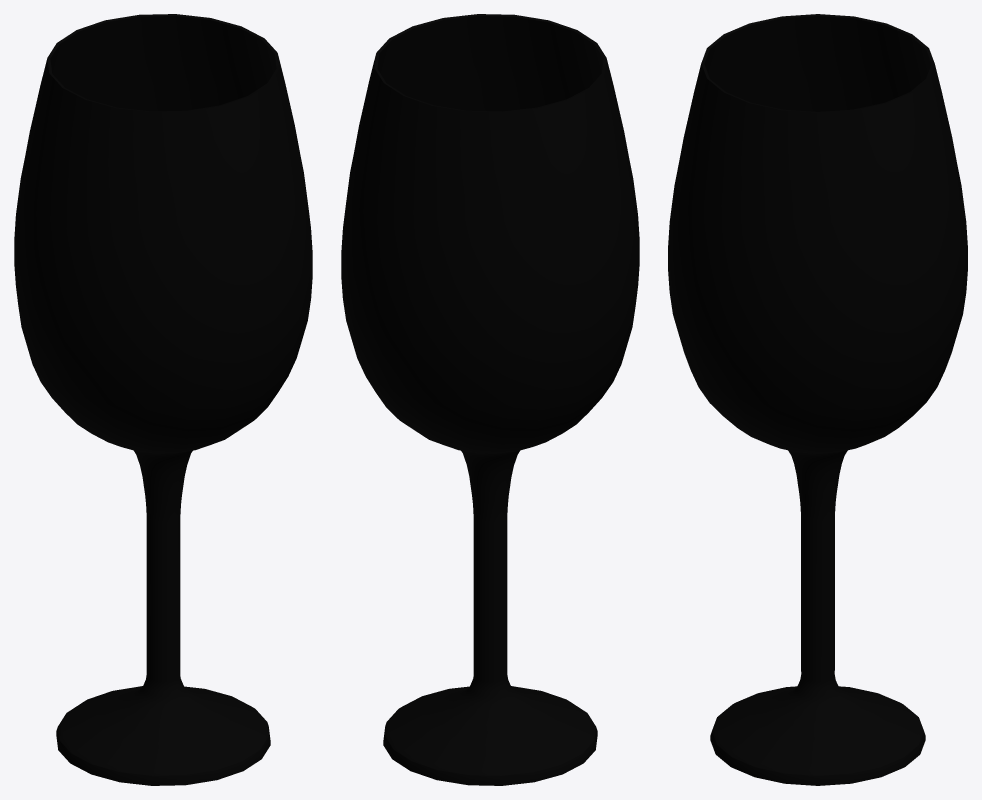
File: wine_glass-transformed.glb
3 views of the same model, side by side, from view 1: azimuth 30°, elevation 25°; view 2: azimuth 150°, elevation 25°; view 3: azimuth 270°, elevation 25° (orthographic).
Visible parts, largest first — view 1: WineGlasses_LP; view 2: WineGlasses_LP; view 3: WineGlasses_LP.
Part boxes in pixels (box(x1,y1,x2,y2)): WineGlasses_LP: box(14, 14, 312, 785); WineGlasses_LP: box(341, 14, 639, 785); WineGlasses_LP: box(668, 14, 967, 785).
Bounding box in the file's own units: 0.1619 × 0.4036 × 0.1619.
1 material, 1 textured.
